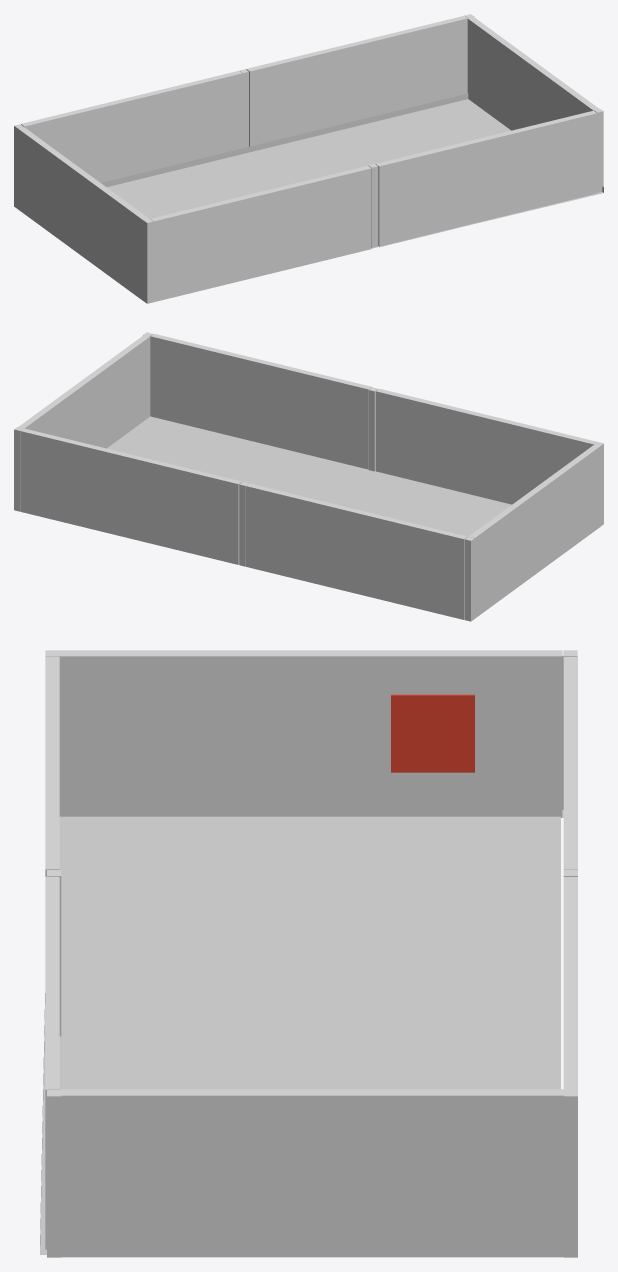
The model's file is Gallery Blend.glb.
The picture shows the model from 3 angles, top to bottom: view 1: azimuth 30°, elevation 25°; view 2: azimuth 150°, elevation 25°; view 3: azimuth 270°, elevation 25°; orthographic projection. The views are drawn at different scales.
Visible parts, largest first — view 1: Cube.001-col, Cube.007-col, Plane.003-col, Cube.009-col, Cube.005-col, Cube.003-col, Cube.011-col, Cube-col, Cube.006-col, Cube.010-col, Cube.004-col; view 2: Cube.009-col, Cube.005-col, Cube.007-col, Plane.003-col, Cube.001-col, Cube.003-col, Cube.011-col, Cube.002-col, Cube.006-col, Cube.004-col, Cube.008-col; view 3: Plane.003-col, Cube.011-col, Cube.003-col, Cube-col.001, Cube.007-col, Cube.001-col, Cube.005-col, Cube.009-col, Cube.008-col, Cube.010-col.
Boxes of the visible parts, x1=… form: Cube.001-col: x1=150, y1=166, x2=371, y2=301; Cube.007-col: x1=375, y1=110, x2=597, y2=247; Plane.003-col: x1=101, y1=93, x2=603, y2=250; Cube.009-col: x1=246, y1=15, x2=467, y2=146; Cube.005-col: x1=21, y1=70, x2=242, y2=182; Cube.003-col: x1=17, y1=127, x2=149, y2=300; Cube.011-col: x1=467, y1=17, x2=598, y2=130; Cube-col: x1=143, y1=219, x2=153, y2=303; Cube.006-col: x1=368, y1=163, x2=378, y2=247; Cube.010-col: x1=594, y1=108, x2=603, y2=192; Cube.004-col: x1=239, y1=69, x2=248, y2=148; Cube.009-col: x1=20, y1=428, x2=241, y2=564; Cube.005-col: x1=246, y1=483, x2=467, y2=619; Cube.007-col: x1=150, y1=333, x2=371, y2=469; Plane.003-col: x1=107, y1=416, x2=511, y2=536; Cube.001-col: x1=376, y1=388, x2=596, y2=504; Cube.003-col: x1=469, y1=444, x2=600, y2=618; Cube.011-col: x1=18, y1=335, x2=149, y2=448; Cube.002-col: x1=464, y1=536, x2=474, y2=621; Cube.006-col: x1=368, y1=387, x2=378, y2=471; Cube.004-col: x1=239, y1=482, x2=248, y2=566; Cube.008-col: x1=14, y1=427, x2=23, y2=511; Plane.003-col: x1=40, y1=816, x2=560, y2=1254; Cube.011-col: x1=61, y1=1089, x2=564, y2=1257; Cube.003-col: x1=59, y1=650, x2=562, y2=817; Cube-col.001: x1=391, y1=694, x2=474, y2=772; Cube.007-col: x1=45, y1=876, x2=59, y2=1249; Cube.001-col: x1=45, y1=656, x2=59, y2=876; Cube.005-col: x1=563, y1=657, x2=577, y2=869; Cube.009-col: x1=563, y1=877, x2=577, y2=1089; Cube.008-col: x1=563, y1=1090, x2=577, y2=1257; Cube.010-col: x1=47, y1=1090, x2=61, y2=1257.
Size of the model in its own units: 32.24 by 5.45 by 16.44.
